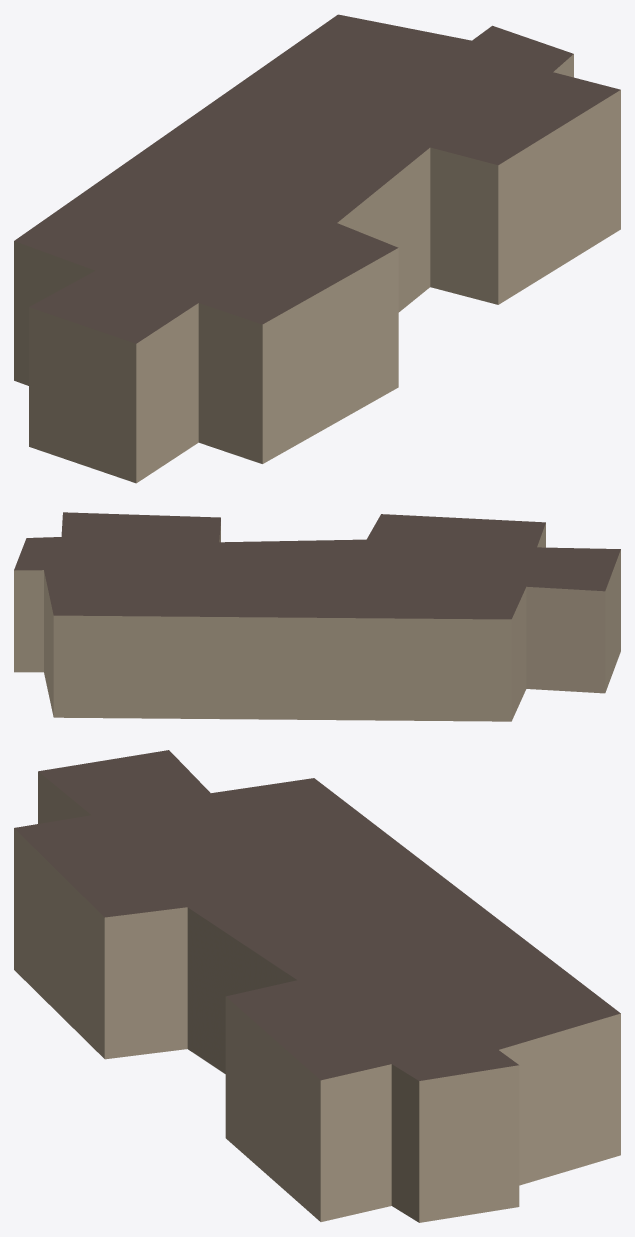
3 views of the same model, one above another, from view 1: azimuth 30°, elevation 25°; view 2: azimuth 150°, elevation 25°; view 3: azimuth 270°, elevation 25° (orthographic). The views are drawn at different scales.
Parts seen in each view (by area): view 1: HP-w1516161937; view 2: HP-w1516161937; view 3: HP-w1516161937.
Boxes of the visible parts, box(x1,y1,x2,y2) form: HP-w1516161937: box(14, 14, 620, 483); HP-w1516161937: box(14, 512, 620, 721); HP-w1516161937: box(14, 750, 620, 1222).
Bounding box in the file's own units: 45.05 × 9 × 34.9.
